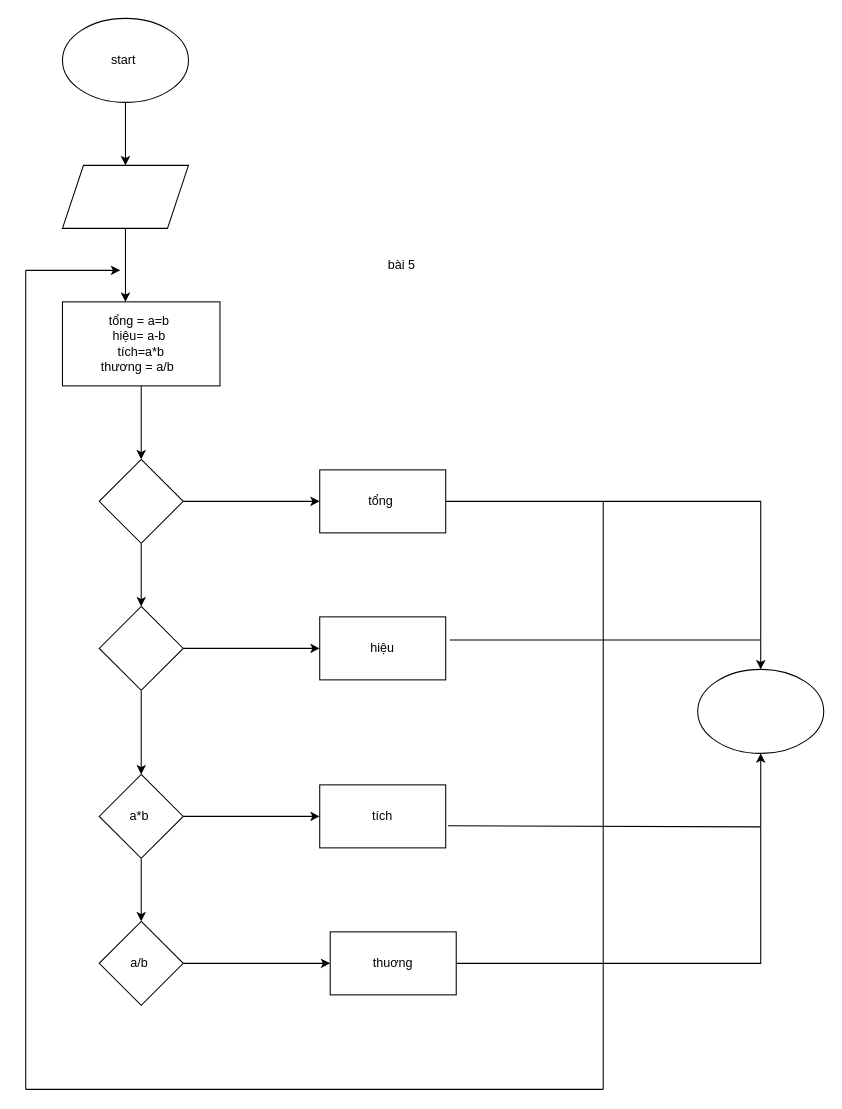
The diagram is 842 pixels wide and 1109 high, and some of its shapes have lost their labels. The shapes that lost their labels are listed below. From the top down, each one's centre as x and y in pixels, then its label:
the point at 124,196: a,b
the point at 140,500: a+b
the point at 140,647: a-b
the point at 760,710: end
